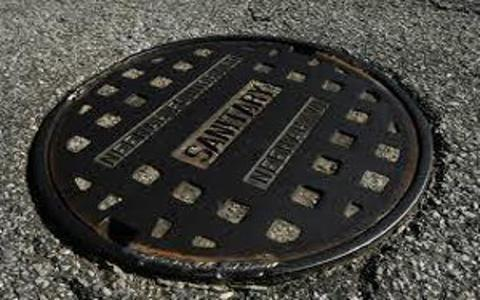proper manhole: (34, 34, 435, 279)
